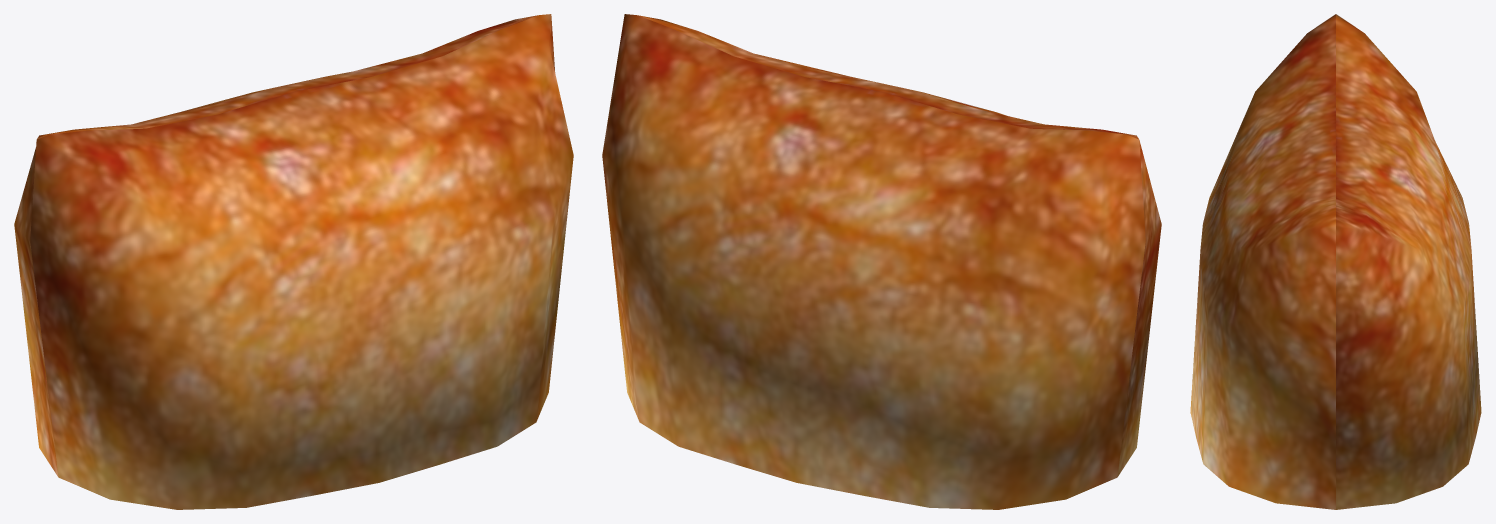
Rendered from inari.fbx.
3 views of the same model, side by side, from view 1: azimuth 30°, elevation 25°; view 2: azimuth 150°, elevation 25°; view 3: azimuth 270°, elevation 25° (orthographic). The views are drawn at different scales.
Visible parts, largest first — view 1: inari; view 2: inari; view 3: inari.
Boxes of the visible parts, bbox=[...] form: inari: bbox=[14, 14, 573, 509]; inari: bbox=[602, 14, 1161, 509]; inari: bbox=[1190, 14, 1481, 509].
Size of the model in its own units: 7.85 by 4.91 by 4.41.
